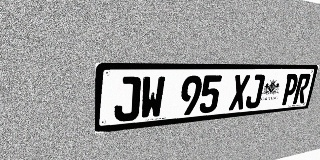5: (199, 75, 222, 114)
9: (179, 75, 203, 116)
J: (114, 76, 141, 122), (244, 74, 266, 109)
P: (280, 74, 300, 105)
R: (292, 74, 311, 104)
W: (139, 76, 166, 120)
X: (228, 75, 250, 111)
